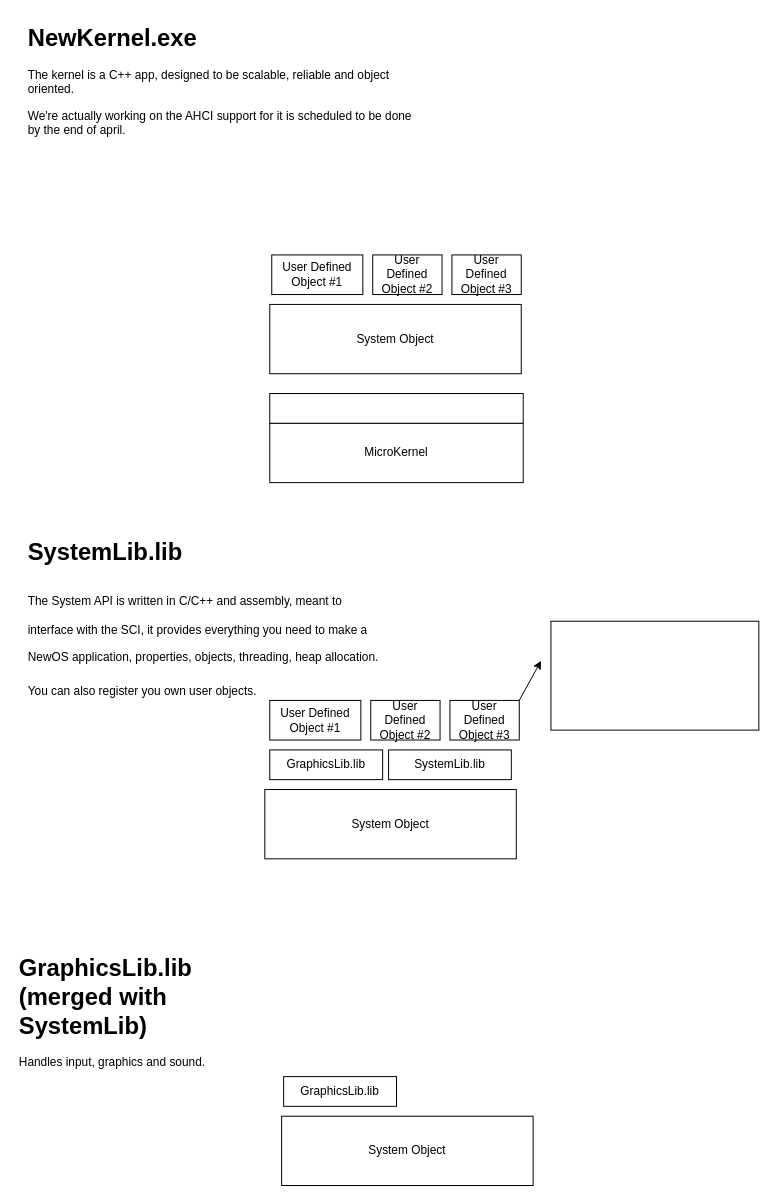
This 776x1203 diagram has some shape labels left out. The shapes that lost their labels are listed below. From the top down, each one's centre as x and y in pixels, then its label:
At pixel 396 408: "System Call Interface".
At pixel 654 675: "/Manifest.xml /NewOS/ - Library.lib/Dll.dll (Subsystem 17) /Resources/".
